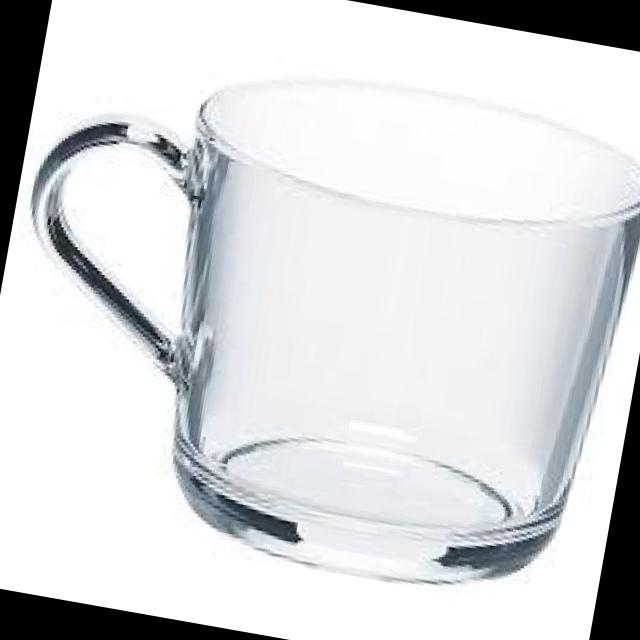Coffee Mug: (0, 29, 640, 610)
